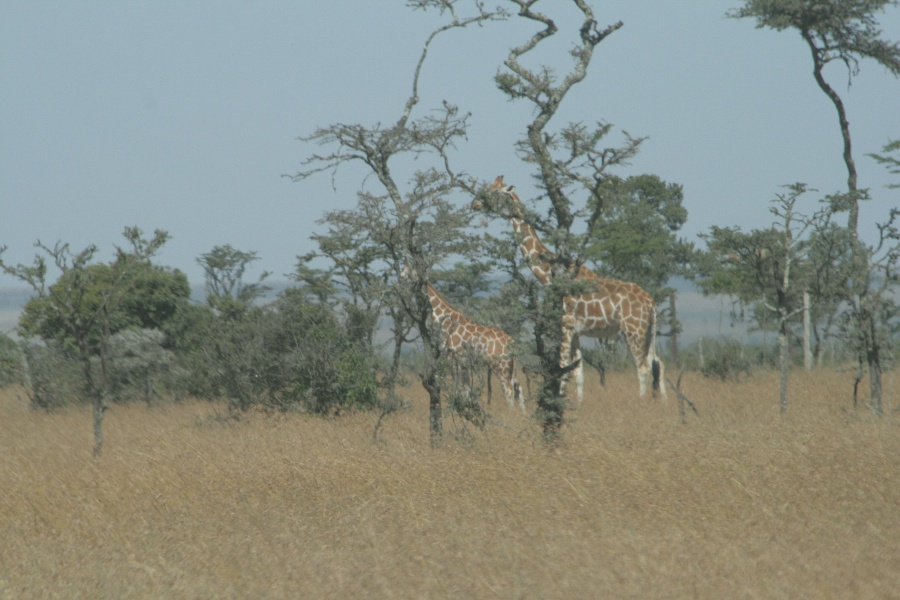giraffe: (471, 171, 676, 417), (381, 253, 529, 428)
